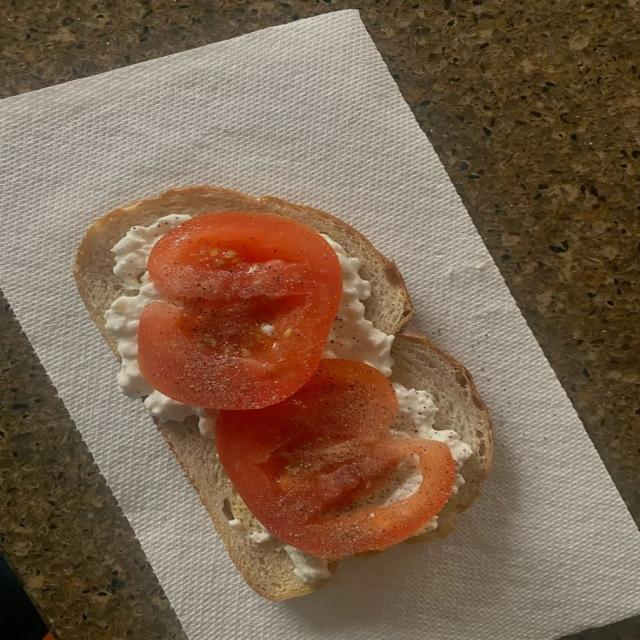sliced bread: (74, 187, 491, 543), (157, 418, 325, 600)
sliced tomatoe: (216, 360, 455, 559), (139, 212, 341, 409)
